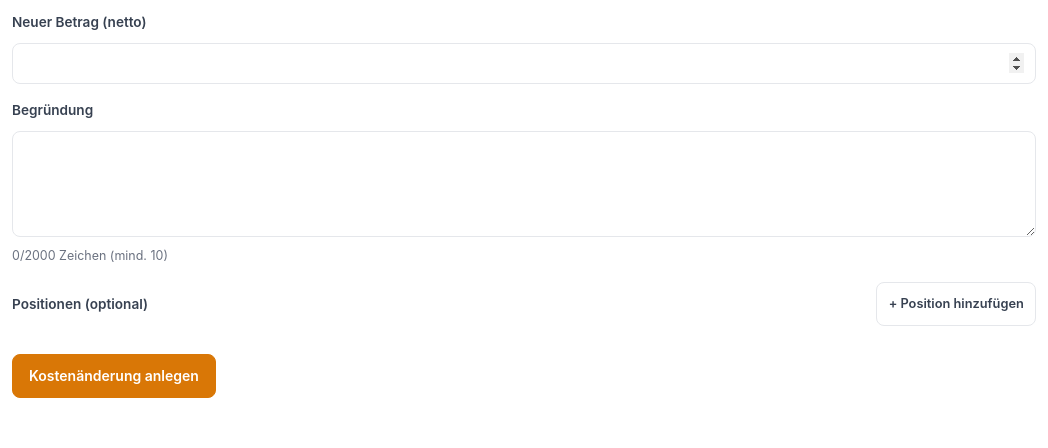
Test case: CostChangeForm › blocks submit and shows a message when new_amount is <= 0
In the number field labelled "Neuer Betrag (netto)": x=524, y=63 top-left (12, 43), bottom-right (1036, 84), type "0"
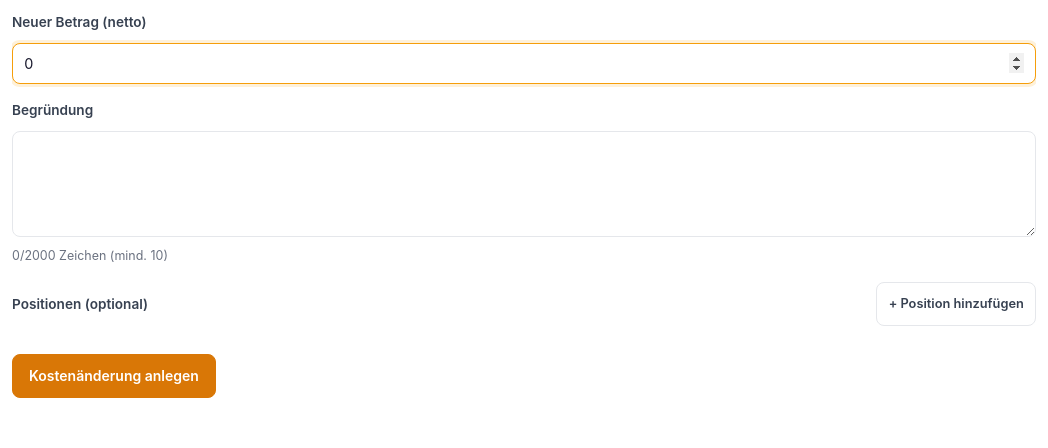
In the text box labelled "Begründung": x=524, y=184 top-left (12, 131), bottom-right (1036, 237), type "Ausreichend lange Begründung für den Test."
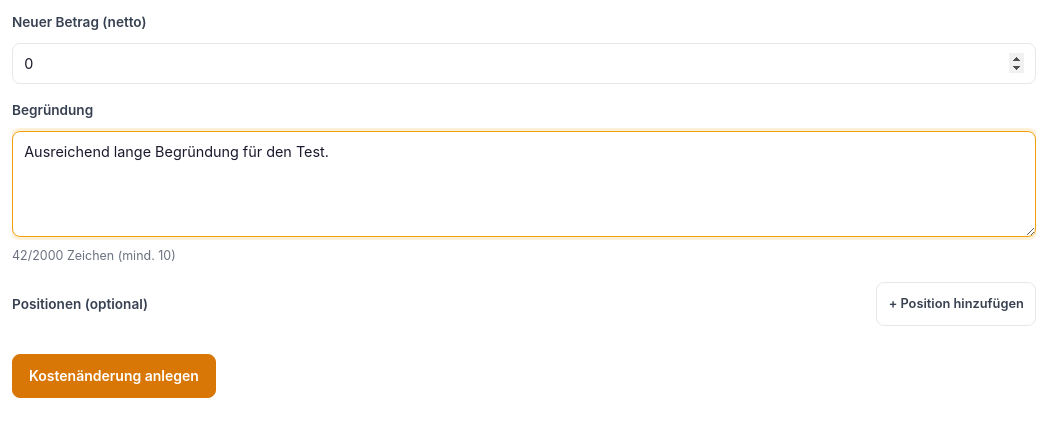
Click the button "Kostenänderung anlegen": x=114, y=376 top-left (12, 354), bottom-right (216, 398)
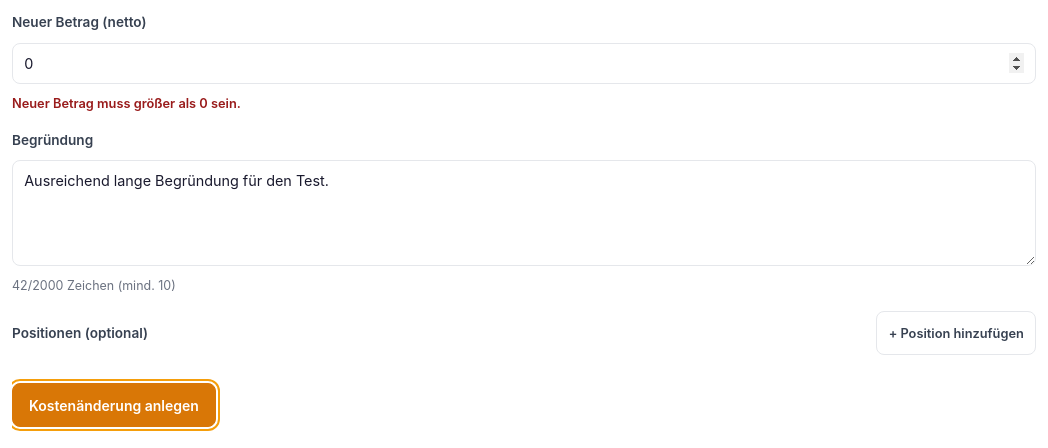
Result: the text "Neuer Betrag muss größer als 0 sein." is shown at top-left (12, 96), bottom-right (241, 111)
